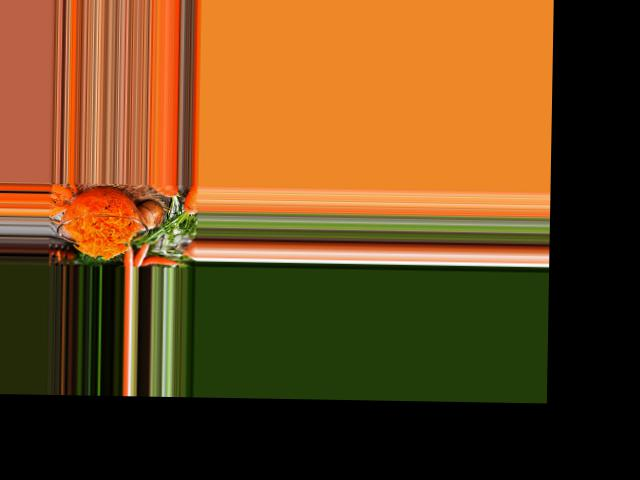carrot: (124, 245, 133, 265)
